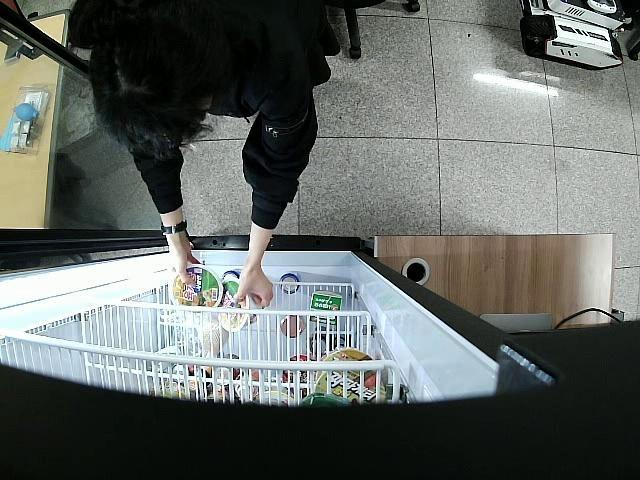09_yukGaeJang: (167, 264, 224, 311), (217, 276, 256, 333)
